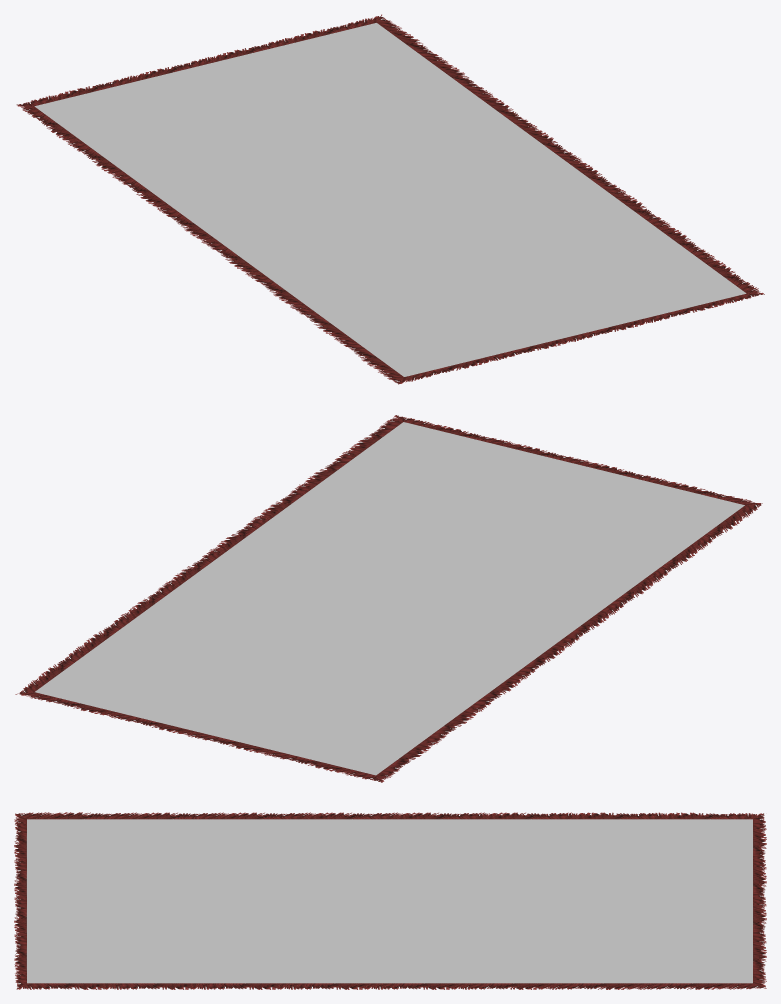
Rendered from SM_DecorCarpet_07.fbx.
3 renders of one model, top to bottom at view 1: azimuth 30°, elevation 25°; view 2: azimuth 150°, elevation 25°; view 3: azimuth 270°, elevation 25°, orthographic.
Parts seen in each view (by area): view 1: SM_DecorCarpet_07; view 2: SM_DecorCarpet_07; view 3: SM_DecorCarpet_07.
Boxes of the visible parts, x1,y1,x2,y2 form: SM_DecorCarpet_07: (16,14,764,384); SM_DecorCarpet_07: (15,415,762,782); SM_DecorCarpet_07: (14,812,766,989).
Size of the model in its own units: 126 by 226 by 1.55e-06.
